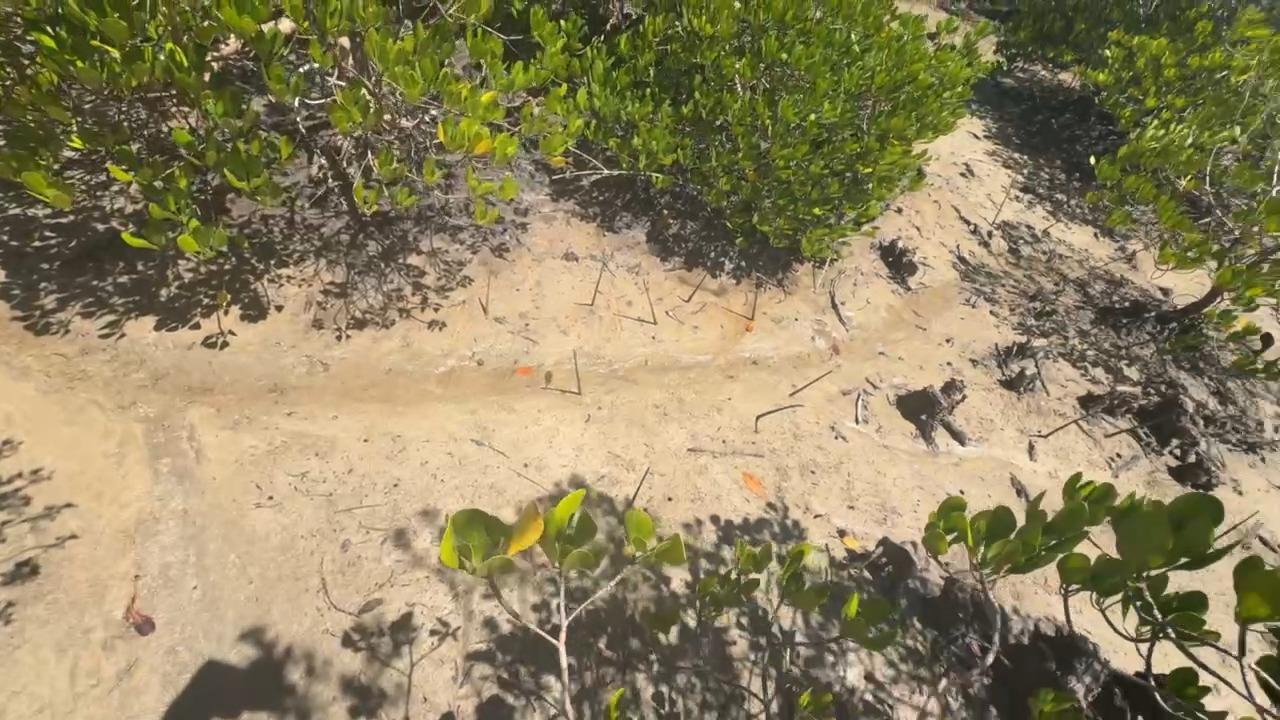Tree: (1104, 409, 1183, 439), (1214, 510, 1258, 541), (991, 175, 1017, 227), (788, 370, 832, 397), (1045, 415, 1088, 439), (629, 466, 651, 509), (756, 405, 804, 420), (643, 279, 658, 326), (685, 272, 707, 304), (591, 265, 604, 307), (816, 257, 832, 290), (573, 349, 582, 395), (485, 275, 490, 320), (751, 289, 758, 321), (855, 393, 861, 426)
